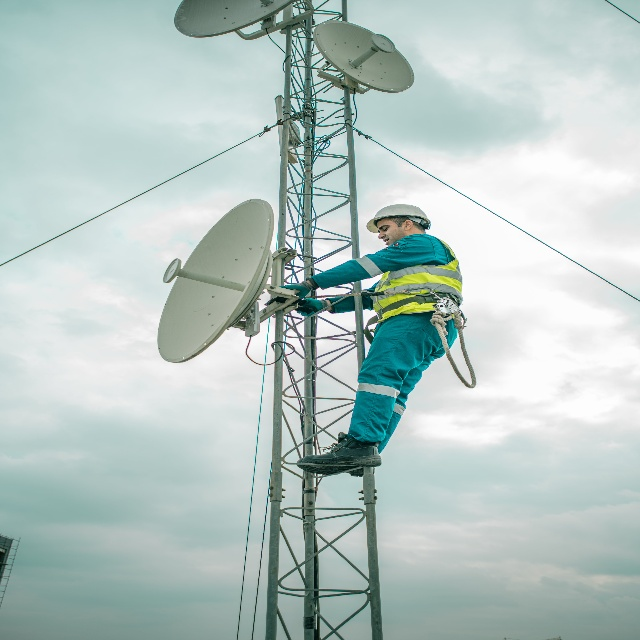Guantes: (276, 281, 313, 304), (295, 298, 328, 316)
